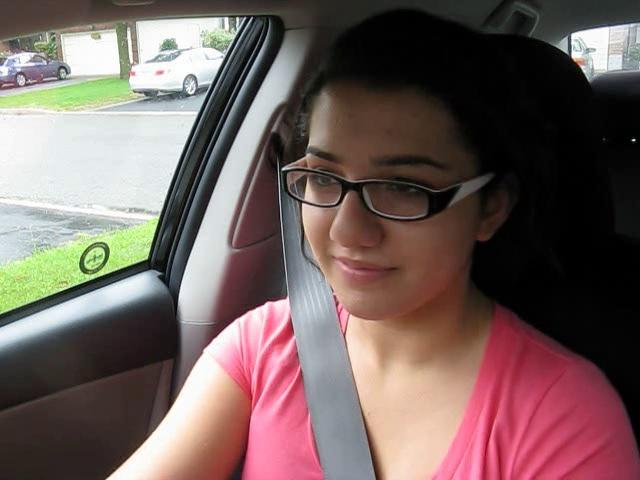no_yawn: (312, 246, 408, 295)
open_eyeL: (287, 156, 353, 206)
open_eyeR: (363, 166, 450, 217)
